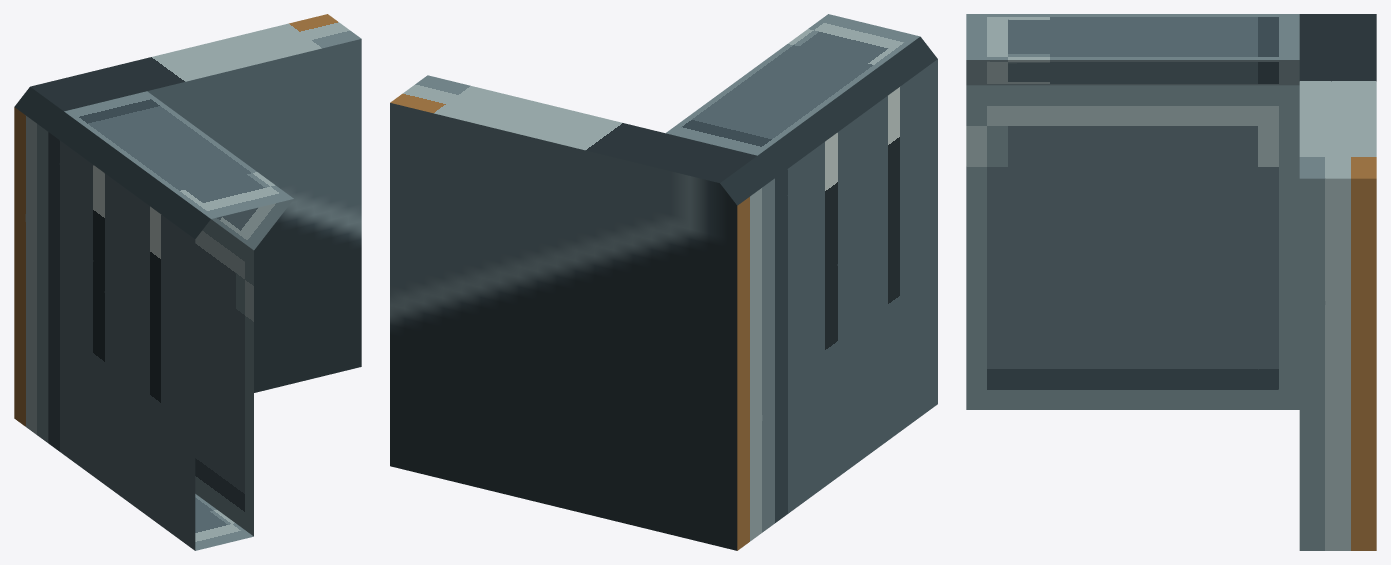
Rendered from casing_d7_front_x-3_y1.obj.
The picture shows the model from 3 angles, left to right: view 1: azimuth 30°, elevation 25°; view 2: azimuth 150°, elevation 25°; view 3: azimuth 270°, elevation 25°; orthographic projection. The views are drawn at different scales.
Visible parts, largest first — view 1: d7_front_x-3_y1; view 2: d7_front_x-3_y1; view 3: d7_front_x-3_y1.
Boxes of the visible parts, x1,y1,x2,y2 form: d7_front_x-3_y1: (14, 14, 361, 550); d7_front_x-3_y1: (390, 14, 937, 550); d7_front_x-3_y1: (966, 14, 1376, 550).
Bounding box in the file's own units: 1 × 1 × 1.
